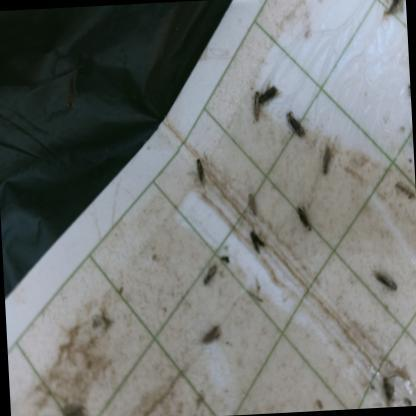prays_oleae: (312, 138, 340, 184), (282, 107, 312, 149), (370, 262, 400, 302), (294, 199, 315, 237), (247, 226, 267, 255), (58, 392, 82, 416), (247, 91, 264, 124), (200, 262, 221, 288), (190, 154, 208, 184), (244, 186, 260, 219), (259, 84, 278, 104), (34, 409, 56, 416)
